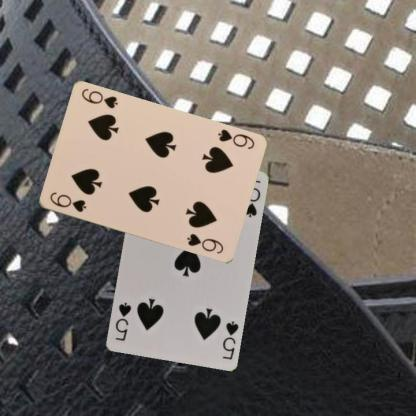5s: (219, 318, 240, 360)
6s: (47, 189, 87, 214), (215, 126, 255, 150)
